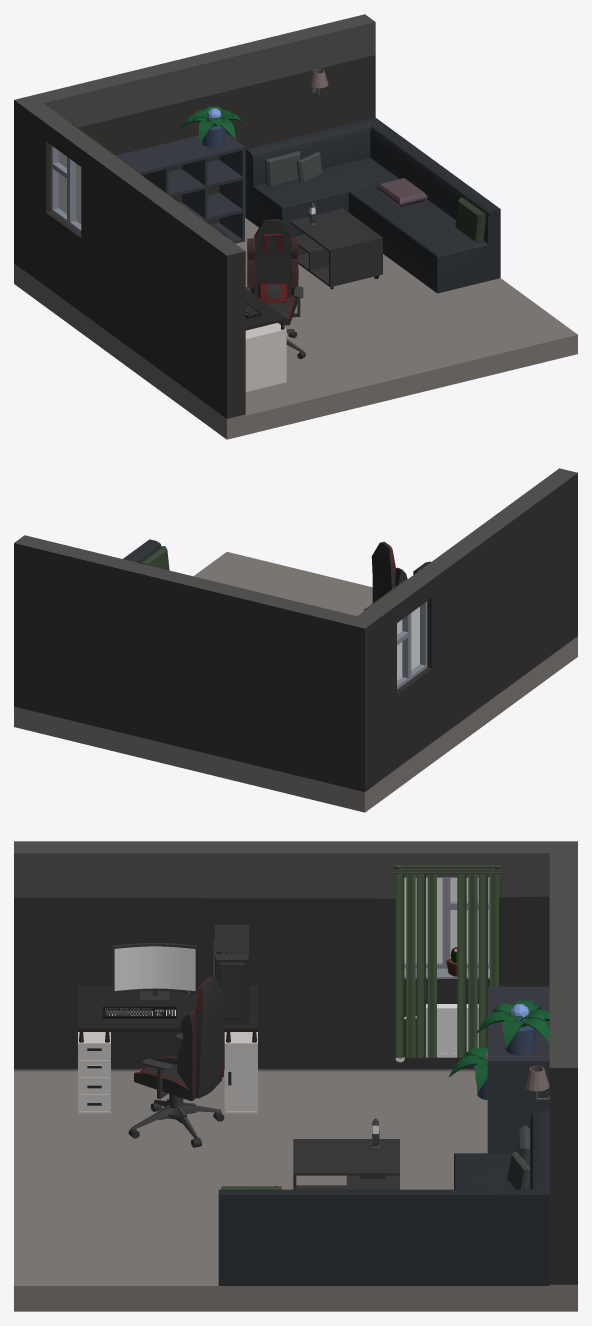
The model's file is komanta_3.fbx.
3 views of the same model, one above another, from view 1: azimuth 30°, elevation 25°; view 2: azimuth 150°, elevation 25°; view 3: azimuth 270°, elevation 25° (orthographic). The views are drawn at different scales.
Parts seen in each view (by area): view 1: stena, pol, divan, skaf, stolic, kreslo, podusca, stol, flower.001, glass; view 2: stena, pol, kreslo, glass, divan; view 3: stena, pol, divan, stori, stol, kreslo, skaf, stolic, monic 3, pc 4, glass, flower.001 (+6 smaller).
Part boxes in pixels (x1,y1,x2,y2): stena: [14, 14, 375, 439]; pol: [235, 218, 577, 434]; divan: [246, 117, 500, 293]; skaf: [115, 133, 244, 243]; stolic: [290, 208, 382, 289]; kreslo: [245, 219, 305, 358]; podusca: [264, 151, 485, 244]; stol: [245, 288, 286, 391]; flower.001: [179, 106, 245, 142]; glass: [58, 151, 81, 224]; stena: [14, 468, 577, 812]; pol: [194, 552, 372, 615]; kreslo: [371, 541, 407, 602]; glass: [397, 606, 419, 680]; divan: [123, 539, 161, 562]; stena: [14, 841, 577, 1311]; pol: [14, 1071, 549, 1311]; divan: [218, 1111, 549, 1285]; stori: [395, 874, 498, 1057]; stol: [78, 986, 257, 1113]; kreslo: [128, 977, 225, 1147]; skaf: [487, 986, 549, 1153]; stolic: [293, 1139, 399, 1189]; monic 3: [112, 943, 197, 1001]; pc 4: [213, 924, 248, 1023]; glass: [404, 878, 488, 962]; flower.001: [476, 1000, 549, 1047].
Bounding box in the file's own units: 1020 × 511 × 1072.
